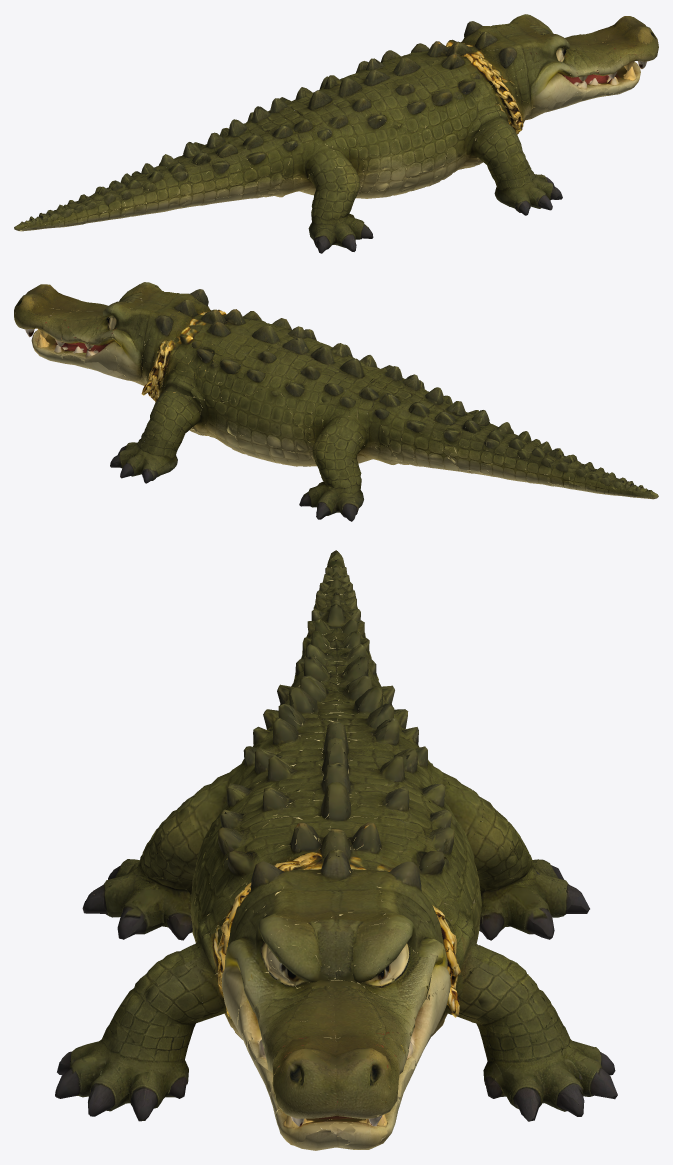
The model's file is croc.glb.
3 views of the same model, one above another, from view 1: azimuth 30°, elevation 25°; view 2: azimuth 150°, elevation 25°; view 3: azimuth 270°, elevation 25° (orthographic). The views are drawn at different scales.
Parts seen in each view (by area): view 1: croc, jaw; view 2: croc, jaw; view 3: croc, jaw.
Part boxes in pixels (bbox=[...]): croc: bbox=[14, 14, 658, 253]; jaw: bbox=[514, 65, 640, 111]; croc: bbox=[14, 282, 658, 521]; jaw: bbox=[31, 331, 163, 379]; croc: bbox=[55, 550, 617, 1130]; jaw: bbox=[235, 1026, 433, 1150].
Bounding box in the file's own units: 1.5 × 0.2907 × 0.5749.
Materials: 1 (1 with a texture image).
